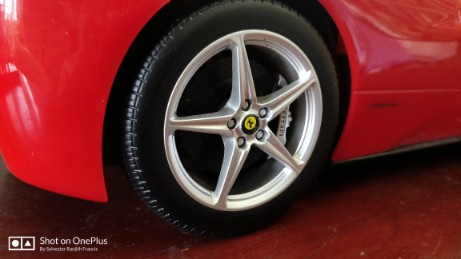aligned_wheel: (118, 1, 344, 239)
